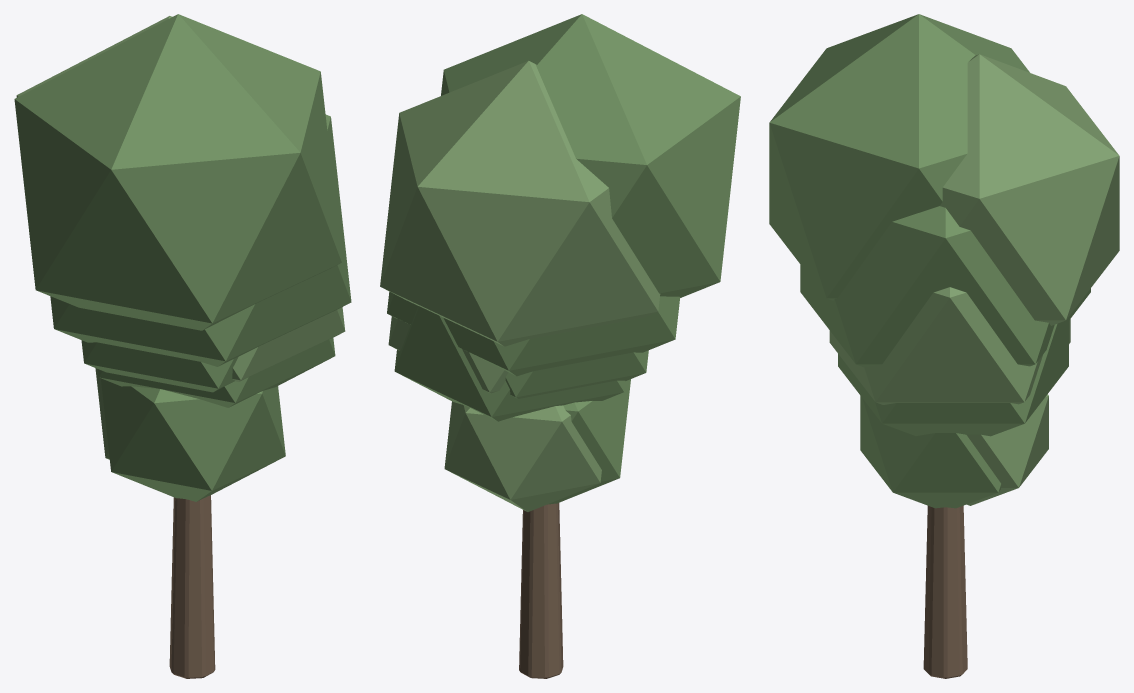
The model's file is arboles.glb.
3 views of the same model, side by side, from view 1: azimuth 30°, elevation 25°; view 2: azimuth 150°, elevation 25°; view 3: azimuth 270°, elevation 25° (orthographic). The views are drawn at different scales.
Visible parts, largest first — view 1: Arbol_2, Arbol_0, Arbol_1; view 2: Arbol_2, Arbol_0, Arbol_1; view 3: Arbol_2, Arbol_1, Arbol_0.
Part boxes in pixels (x1,y1,x2,y2): Arbol_2: (14, 14, 351, 678); Arbol_0: (95, 368, 285, 501); Arbol_1: (81, 307, 345, 407); Arbol_2: (380, 14, 740, 678); Arbol_0: (444, 379, 630, 511); Arbol_1: (388, 306, 648, 421); Arbol_2: (769, 14, 1119, 678); Arbol_1: (829, 287, 1070, 436); Arbol_0: (860, 394, 1048, 508).
Bounding box in the file's own units: 4.76 × 9.91 × 4.89.
